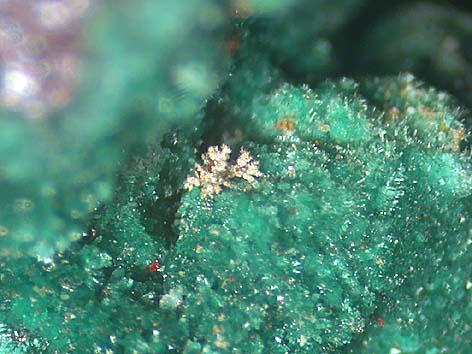silver: (184, 145, 263, 198)
